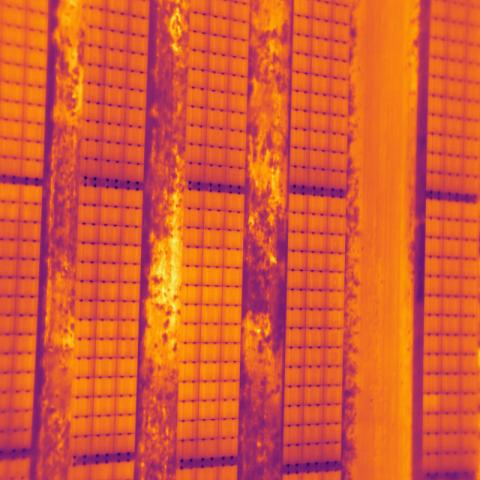fault: (424, 394, 440, 412)
